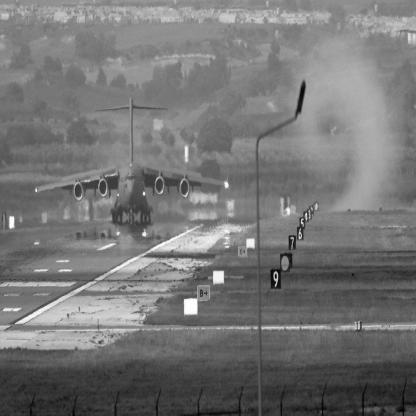C17: (34, 96, 230, 229)
